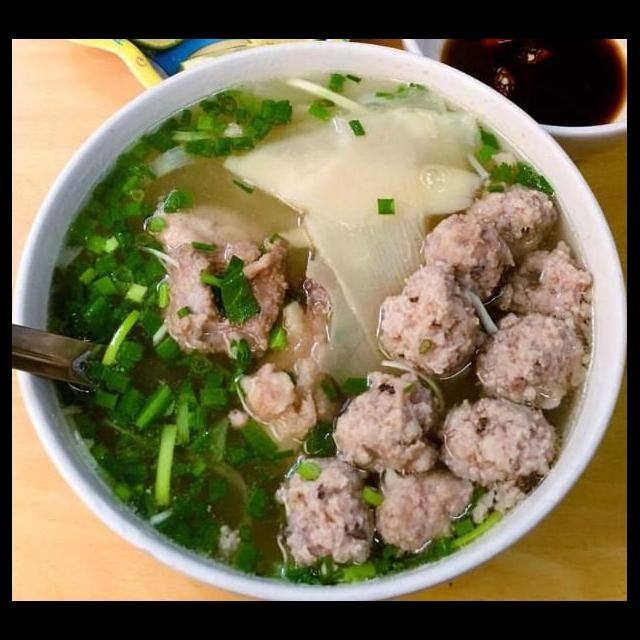vien moc: (156, 235, 312, 358), (270, 448, 392, 568), (374, 261, 491, 381), (326, 368, 454, 474), (474, 306, 590, 419), (438, 385, 558, 491), (370, 456, 472, 558), (486, 237, 600, 319), (461, 169, 562, 258), (420, 211, 522, 297)
